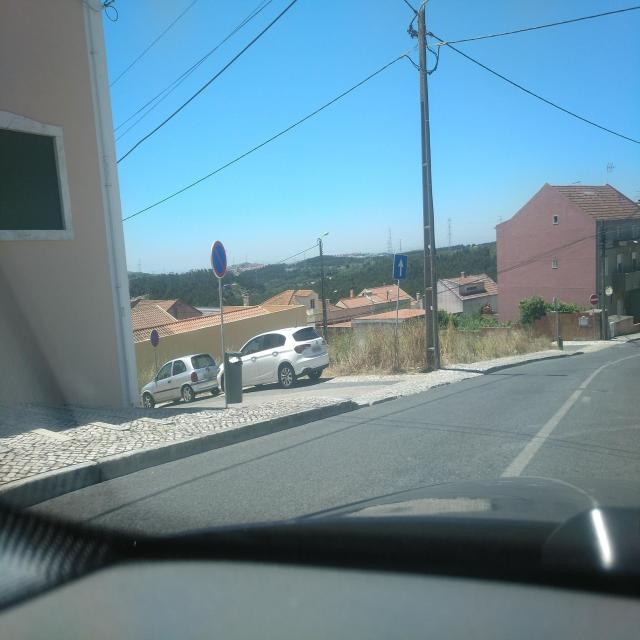forb_stopping: (210, 240, 227, 279)
forb_waiting: (150, 330, 159, 348)
